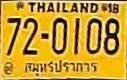0: (51, 17, 67, 54), (86, 17, 101, 53)
1: (74, 18, 80, 54)
2: (22, 17, 38, 54)
7: (6, 17, 20, 55)
8: (103, 18, 119, 54)
SPK: (22, 60, 100, 77)
